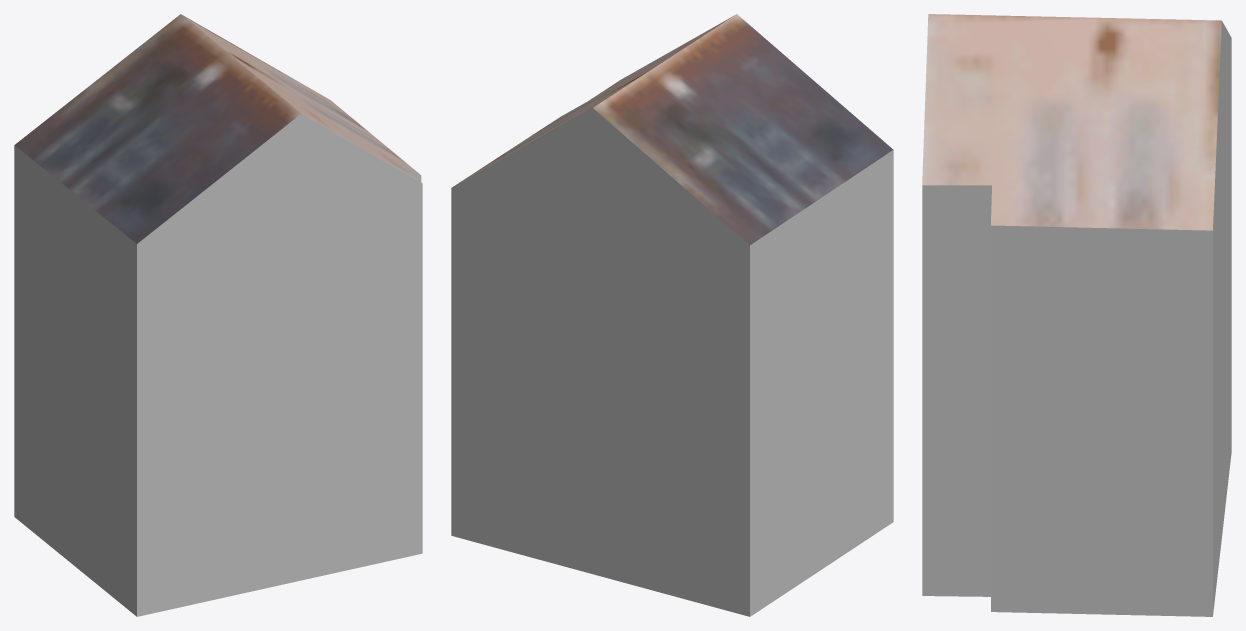
The model's file is DEBW_0010007TxbC.gltf.
The picture shows the model from 3 angles, left to right: view 1: azimuth 30°, elevation 25°; view 2: azimuth 150°, elevation 25°; view 3: azimuth 270°, elevation 25°; orthographic projection. The views are drawn at different scales.
Parts seen in each view (by area): view 1: Z_UP; view 2: Z_UP; view 3: Z_UP.
Boxes of the visible parts, x1=… form: Z_UP: x1=14, y1=14, x2=422, y2=616; Z_UP: x1=451, y1=14, x2=893, y2=616; Z_UP: x1=922, y1=14, x2=1231, y2=616.
Bounding box in the file's own units: 12.45 × 17.47 × 9.47.
Materials: 2 (1 with a texture image).
